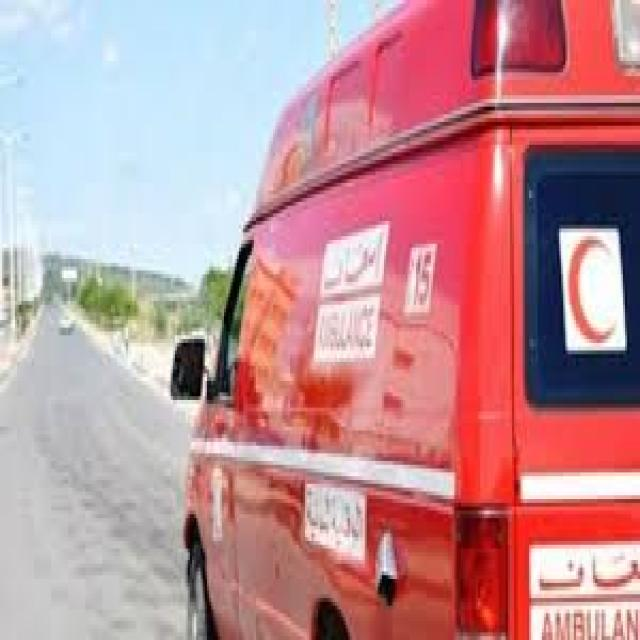police: (173, 0, 640, 632)
